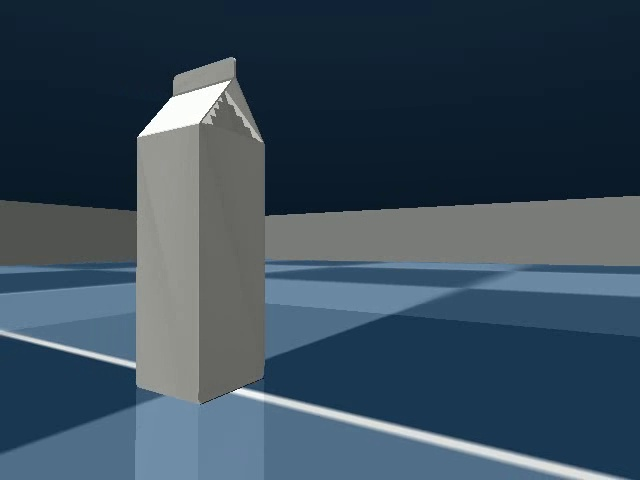milk: (122, 47, 276, 416)
